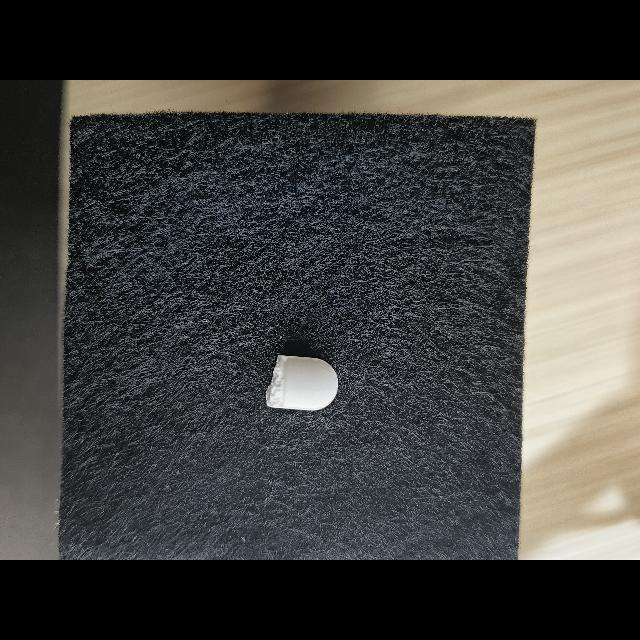Chipped Pill: (266, 355, 338, 411)
